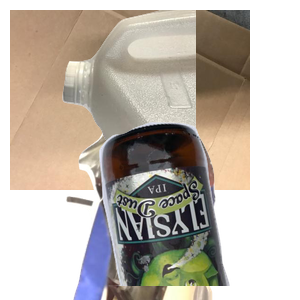cardboard: (10, 10, 250, 190)
glass: (97, 120, 300, 300)
plastic: (60, 10, 300, 190)
trash: (63, 120, 300, 300)
